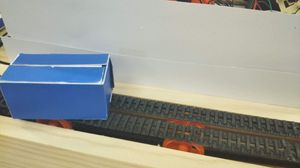box3: (0, 50, 115, 121)
